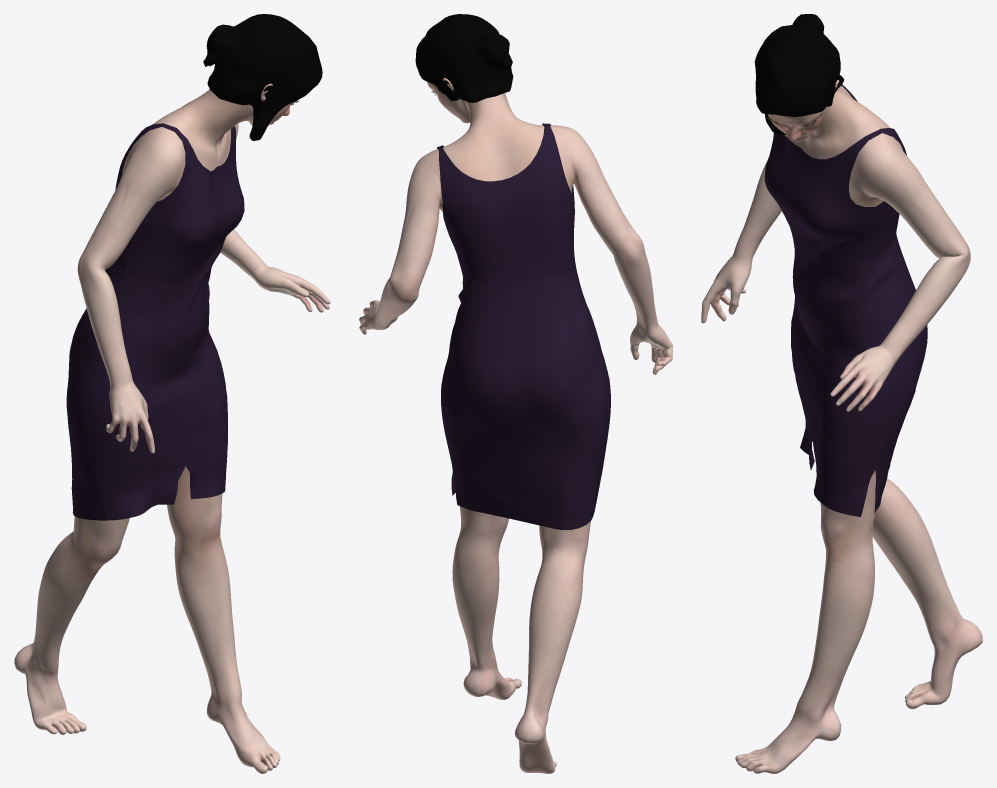
The model's file is random.obj.
3 renders of one model, left to right at view 1: azimuth 30°, elevation 25°; view 2: azimuth 150°, elevation 25°; view 3: azimuth 270°, elevation 25°, orthographic. The views are drawn at different scales.
Bounding box in the file's own units: 683 × 1739 × 590.
